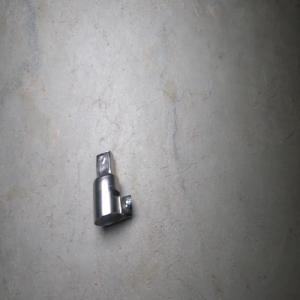MetalPart: (92, 149, 132, 227)
